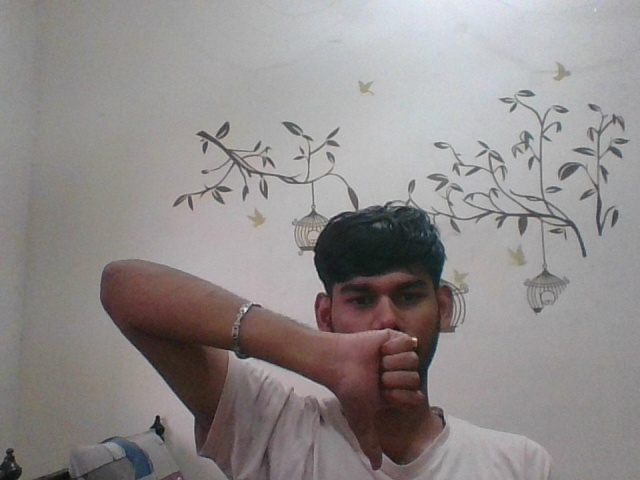No: (326, 318, 441, 469)
